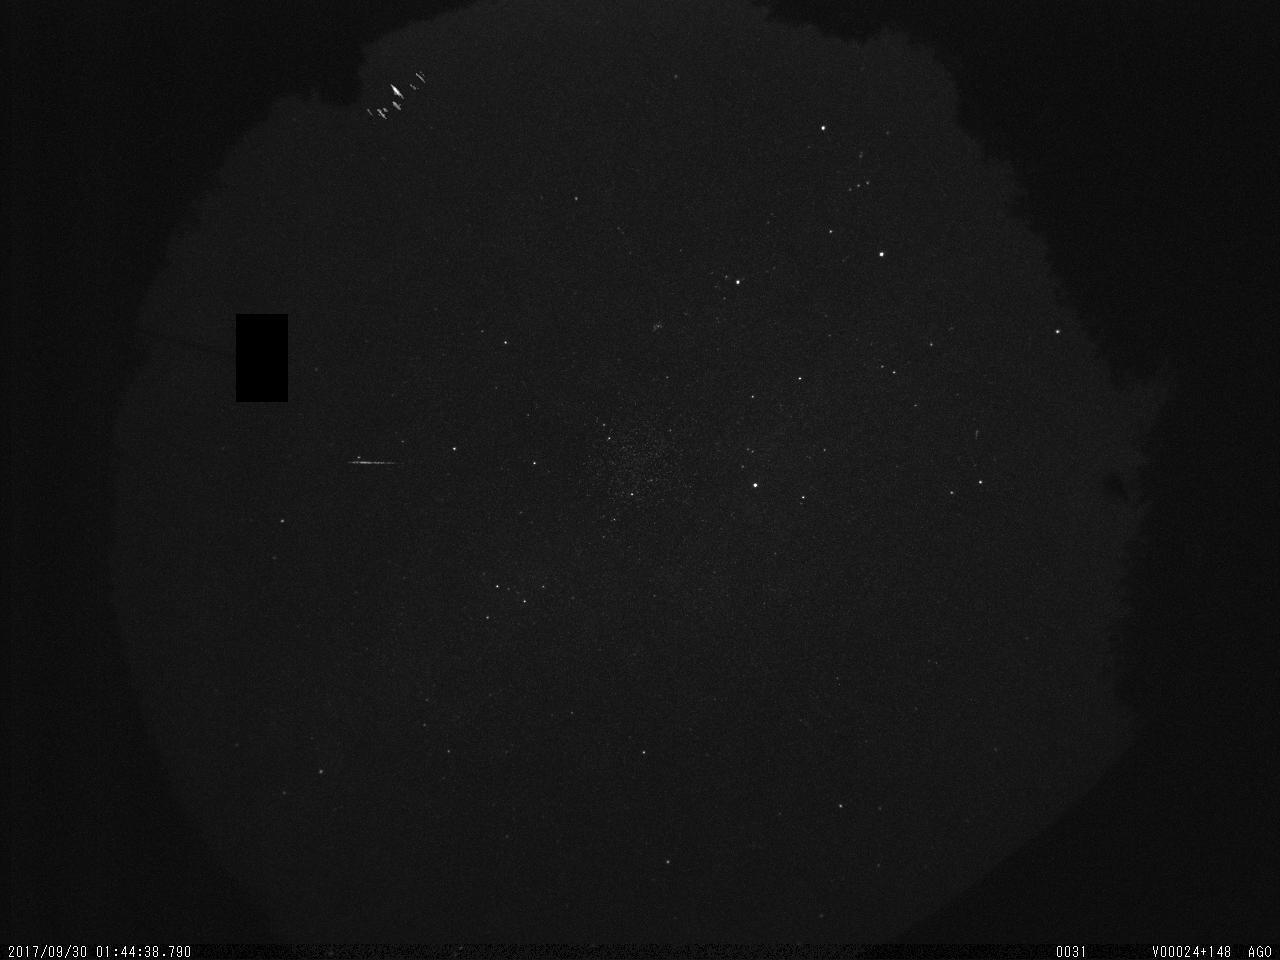TLE: (346, 57, 457, 143)
